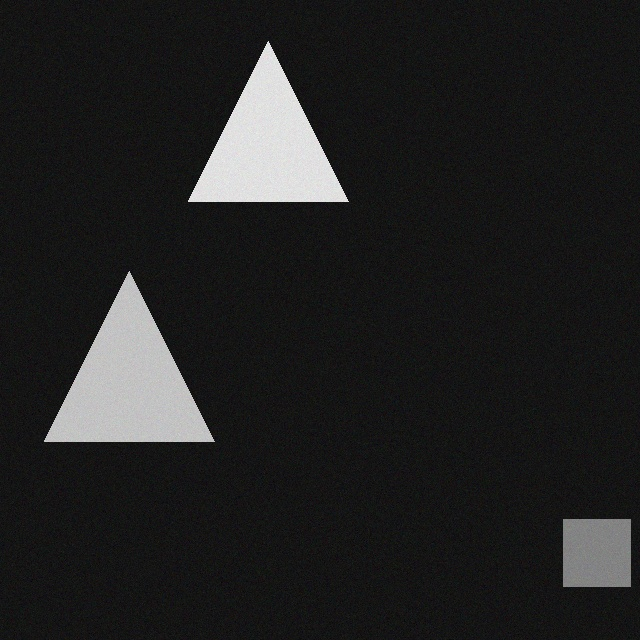square: (560, 517, 627, 584)
triangle: (41, 269, 211, 439), (185, 39, 345, 199)
